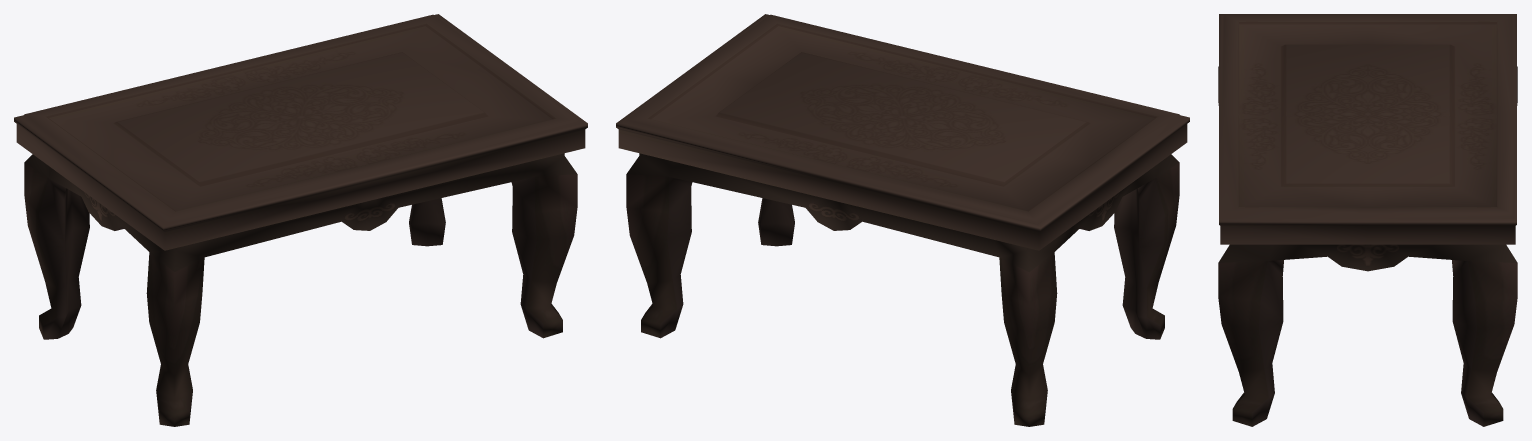
The model's file is table2.FBX.
The picture shows the model from 3 angles, left to right: view 1: azimuth 30°, elevation 25°; view 2: azimuth 150°, elevation 25°; view 3: azimuth 270°, elevation 25°; orthographic projection.
Parts seen in each view (by area): view 1: 테이블 크기002; view 2: 테이블 크기002; view 3: 테이블 크기002.
Part boxes in pixels (x1,y1,x2,y2): 테이블 크기002: [14, 14, 587, 426]; 테이블 크기002: [616, 14, 1189, 426]; 테이블 크기002: [1218, 14, 1517, 426].
Size of the model in its own units: 70.38 by 43.13 by 34.33.
Materials: 1 (1 with a texture image).
